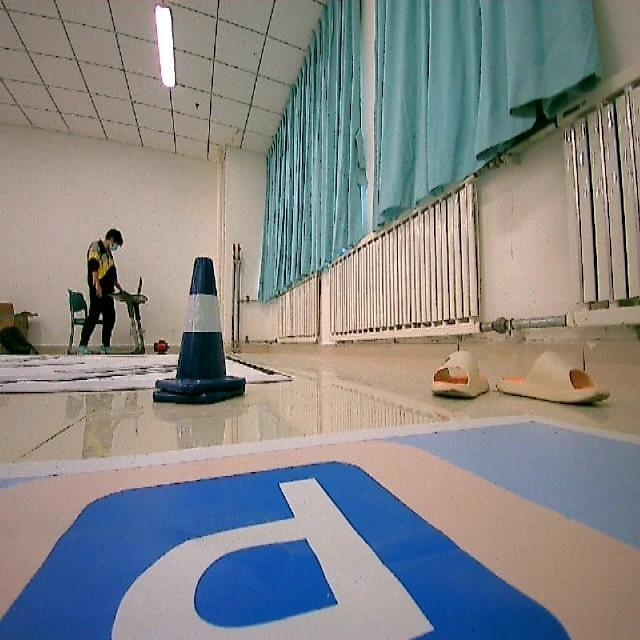obstacle: (152, 250, 247, 414)
